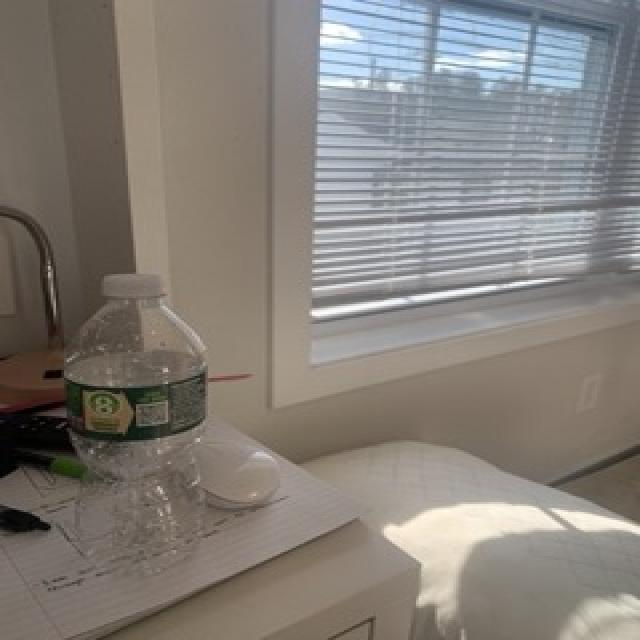water_bottle: (53, 268, 217, 582)
